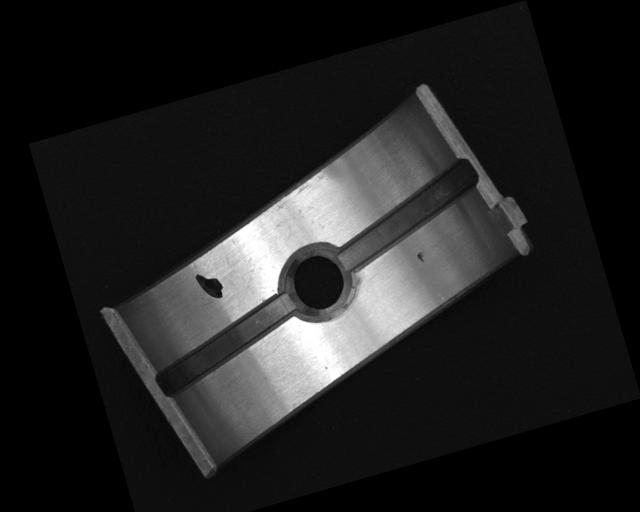blot: (193, 268, 226, 304)
bruise: (415, 250, 426, 264)
gap: (323, 159, 489, 274), (141, 293, 308, 400)
hole: (275, 240, 360, 329)
